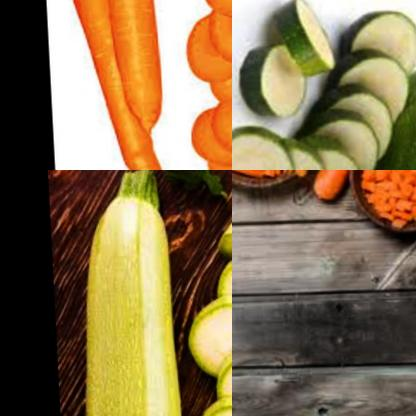carrot: (52, 0, 163, 170), (75, 0, 165, 141), (169, 0, 232, 170), (316, 170, 387, 213), (361, 170, 416, 225)
vegetable marrow: (63, 170, 190, 416), (272, 66, 416, 170), (318, 78, 405, 163), (267, 0, 349, 89), (336, 42, 416, 116), (336, 0, 416, 71), (232, 34, 297, 121), (302, 109, 385, 170), (183, 294, 232, 375), (232, 126, 302, 170), (243, 137, 334, 170), (206, 242, 232, 350), (295, 142, 374, 170)
